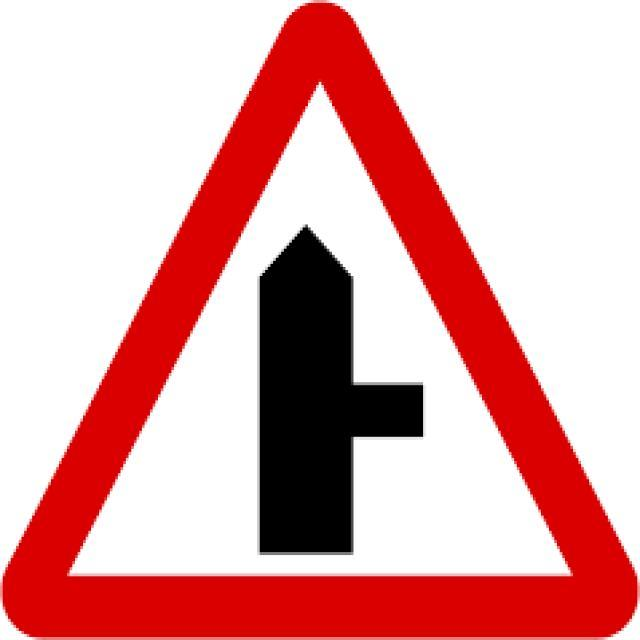side road right: (15, 16, 620, 627)
